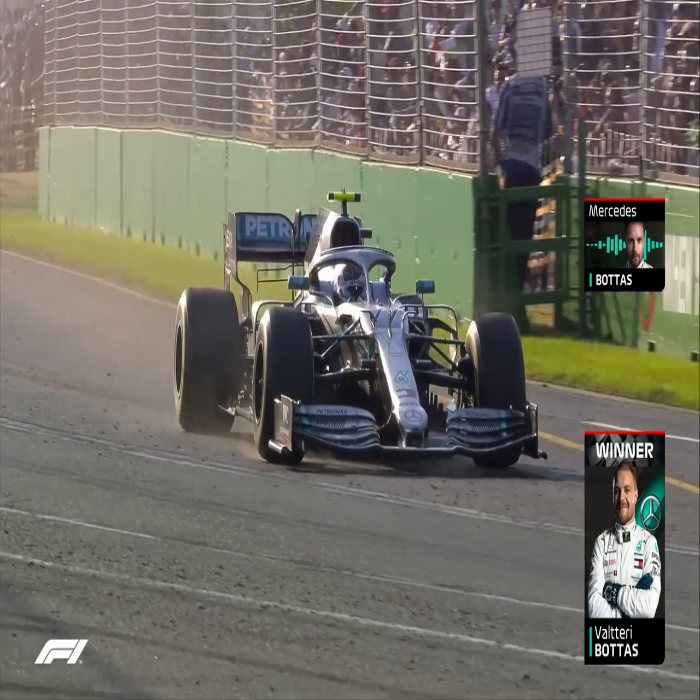f1_car: (164, 187, 551, 478)
